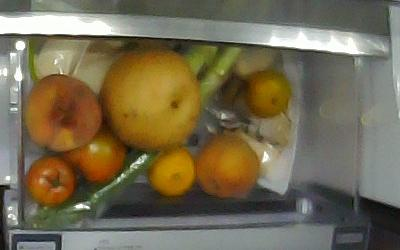peach: (26, 73, 102, 151), (198, 135, 260, 197)
pear: (102, 52, 200, 147)
tangerine: (147, 150, 194, 197), (249, 73, 291, 117)
tomato: (60, 127, 124, 182), (27, 156, 73, 205)
